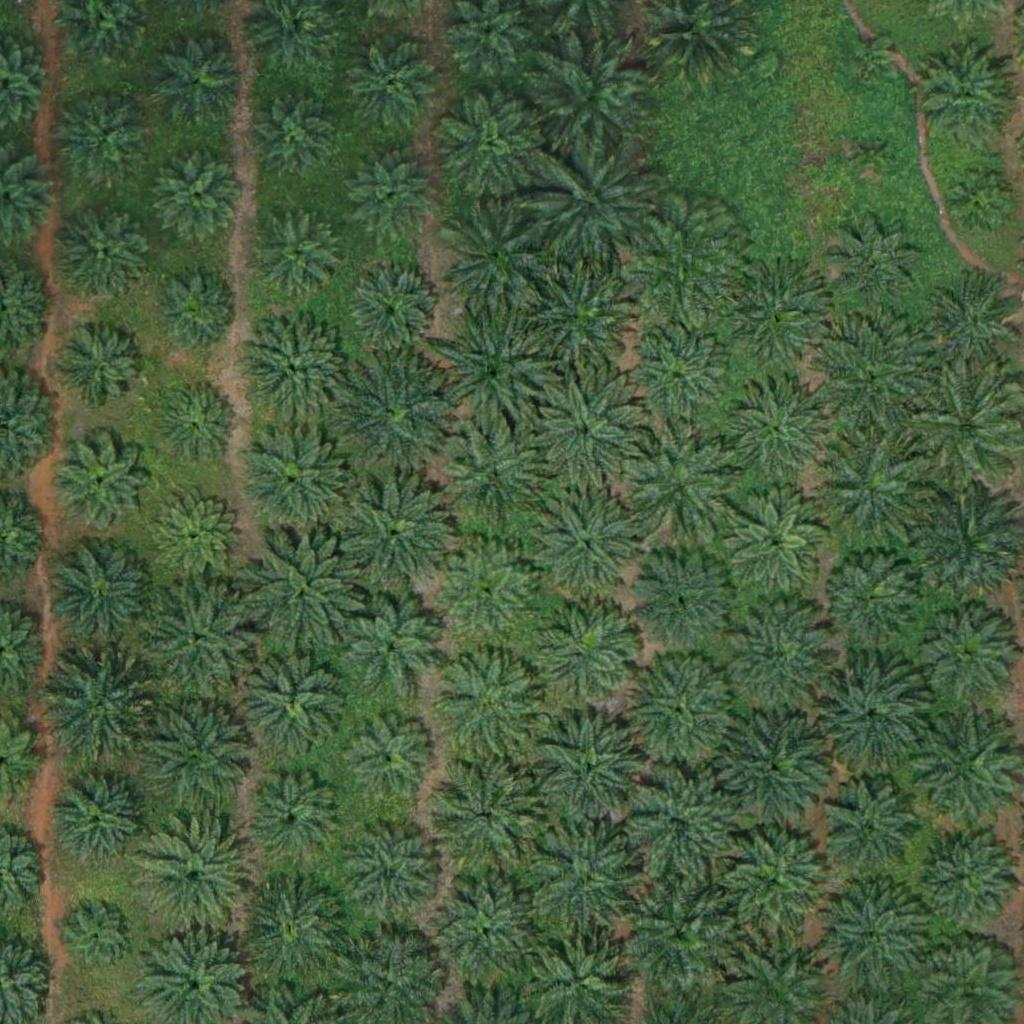Kelapa_Sawit: (627, 206, 740, 320), (539, 38, 652, 152), (539, 145, 652, 259), (47, 538, 160, 652), (39, 651, 152, 765), (908, 369, 1021, 483), (45, 760, 158, 873), (137, 822, 250, 935), (236, 311, 349, 424), (237, 427, 350, 540), (340, 360, 453, 473), (338, 478, 451, 591), (434, 650, 547, 763), (426, 759, 539, 872), (519, 260, 632, 373), (622, 322, 735, 435), (626, 429, 739, 542), (623, 543, 736, 656), (726, 597, 839, 710), (718, 707, 831, 820), (819, 882, 932, 995), (720, 828, 833, 941), (531, 827, 644, 940), (431, 878, 544, 991), (145, 583, 257, 697), (142, 695, 254, 809), (239, 763, 351, 877), (717, 254, 829, 368), (721, 369, 833, 483), (816, 321, 928, 435), (813, 429, 925, 543), (910, 597, 1022, 711), (236, 875, 348, 989), (818, 209, 930, 322), (435, 89, 547, 202), (442, 203, 554, 316), (246, 533, 358, 646), (240, 646, 352, 759), (437, 318, 549, 431), (439, 420, 551, 533), (528, 379, 640, 492), (529, 490, 641, 603), (534, 714, 646, 827), (622, 657, 734, 770), (623, 769, 735, 882), (814, 650, 926, 763), (625, 879, 737, 992), (921, 47, 1021, 148), (343, 30, 443, 131), (148, 30, 248, 131), (53, 87, 153, 188), (54, 200, 154, 301), (339, 595, 439, 696), (435, 541, 535, 642), (535, 601, 635, 702), (725, 488, 825, 589), (820, 779, 920, 880), (920, 275, 1020, 376), (917, 827, 1017, 928), (49, 433, 149, 533), (342, 824, 442, 924), (821, 545, 921, 645), (345, 151, 433, 239), (350, 268, 438, 356), (247, 93, 335, 181), (56, 324, 144, 412), (154, 378, 242, 466), (151, 492, 239, 580), (254, 210, 341, 299), (154, 150, 241, 239), (152, 266, 239, 354), (348, 714, 435, 802), (948, 170, 1011, 233), (68, 906, 131, 969), (854, 44, 891, 82), (850, 135, 887, 173)
